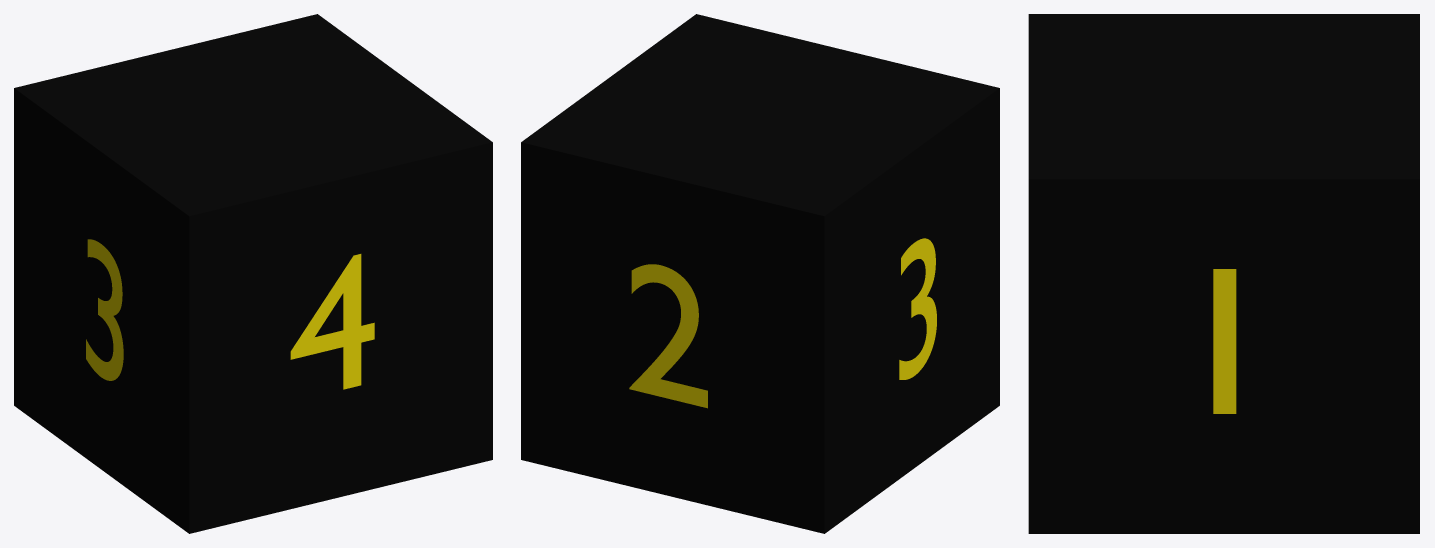
3 renders of one model, left to right at view 1: azimuth 30°, elevation 25°; view 2: azimuth 150°, elevation 25°; view 3: azimuth 270°, elevation 25°, orthographic. The views are drawn at different scales.
Visible parts, largest first — view 1: Cube, Text.003, Text.002; view 2: Cube, Text.001, Text.002; view 3: Cube, Text.
Part boxes in pixels (left/top/right/bottom): Cube: left=14, top=14, right=492, bottom=533; Text.003: left=290, top=254, right=374, bottom=389; Text.002: left=86, top=239, right=123, bottom=380; Cube: left=521, top=14, right=999, bottom=533; Text.001: left=629, top=264, right=707, bottom=408; Text.002: left=899, top=238, right=936, bottom=379; Cube: left=1028, top=14, right=1419, bottom=533; Text: left=1213, top=269, right=1236, bottom=413.
Bounding box in the file's own units: 5.03 × 5 × 5.02.
